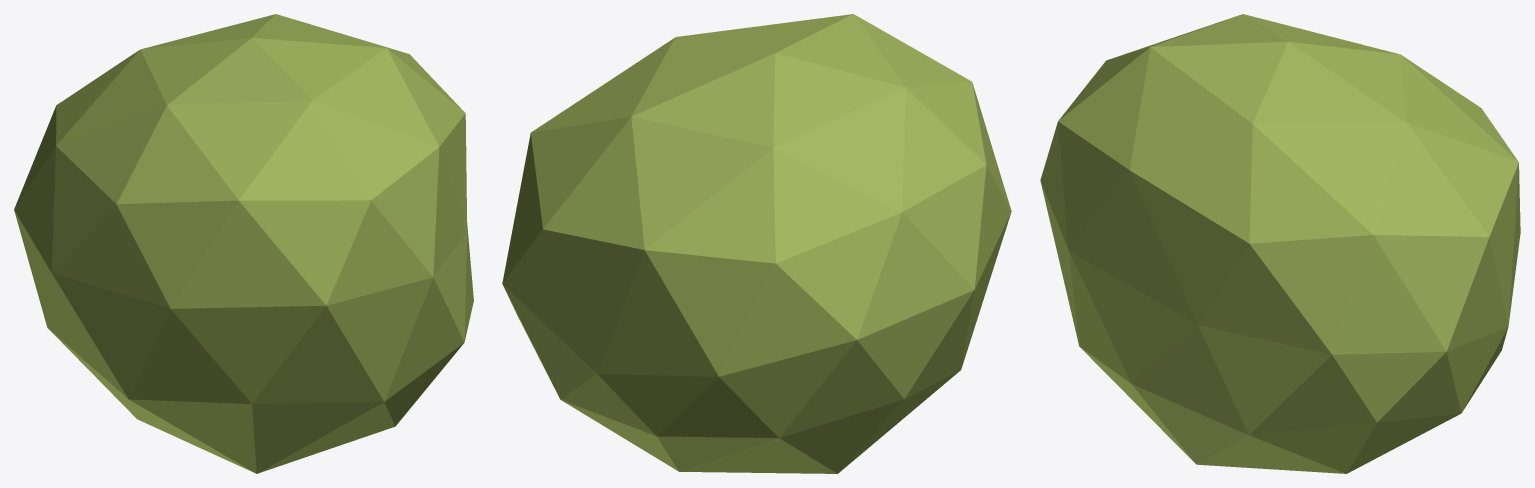
File: Bush.fbx
3 views of the same model, side by side, from view 1: azimuth 30°, elevation 25°; view 2: azimuth 150°, elevation 25°; view 3: azimuth 270°, elevation 25° (orthographic).
Visible parts, largest first — view 1: Bush; view 2: Bush; view 3: Bush.
Boxes of the visible parts, x1,y1,x2,y2 form: Bush: [14, 14, 473, 473]; Bush: [502, 14, 1011, 473]; Bush: [1040, 14, 1520, 473].
Bounding box in the file's own units: 38.96 × 35.58 × 37.78.
